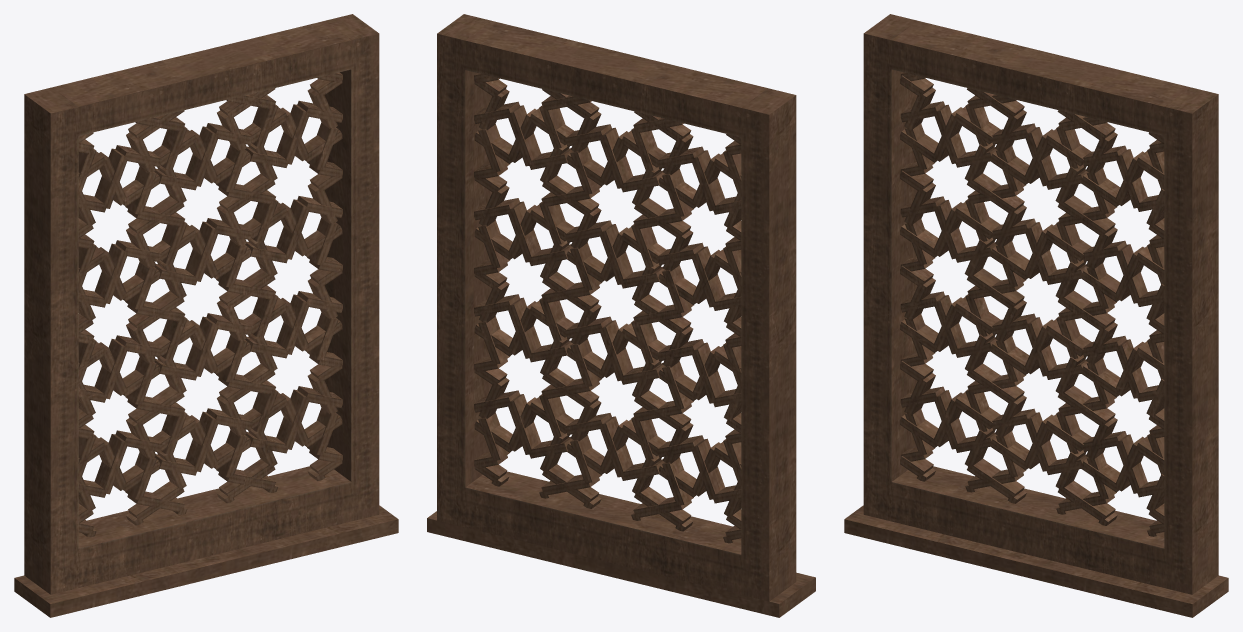
Rendered from window_panjara.glb.
The picture shows the model from 3 angles, left to right: view 1: azimuth 30°, elevation 25°; view 2: azimuth 150°, elevation 25°; view 3: azimuth 330°, elevation 25°; orthographic projection.
Visible parts, largest first — view 1: window_panjara; view 2: window_panjara; view 3: window_panjara.
Part boxes in pixels (x1,y1,x2,y2): window_panjara: (14, 14, 398, 617); window_panjara: (427, 14, 815, 617); window_panjara: (844, 14, 1228, 617).
Size of the model in its own units: 1.06 by 1.44 by 0.19.
Materials: 1 (1 with a texture image).
